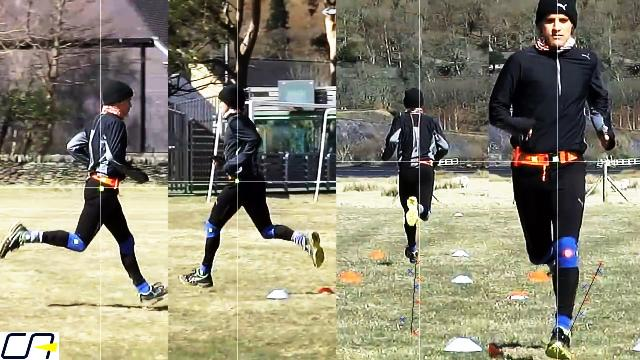berlari: (488, 0, 614, 360), (0, 74, 166, 316), (172, 82, 328, 284), (384, 74, 454, 272)
